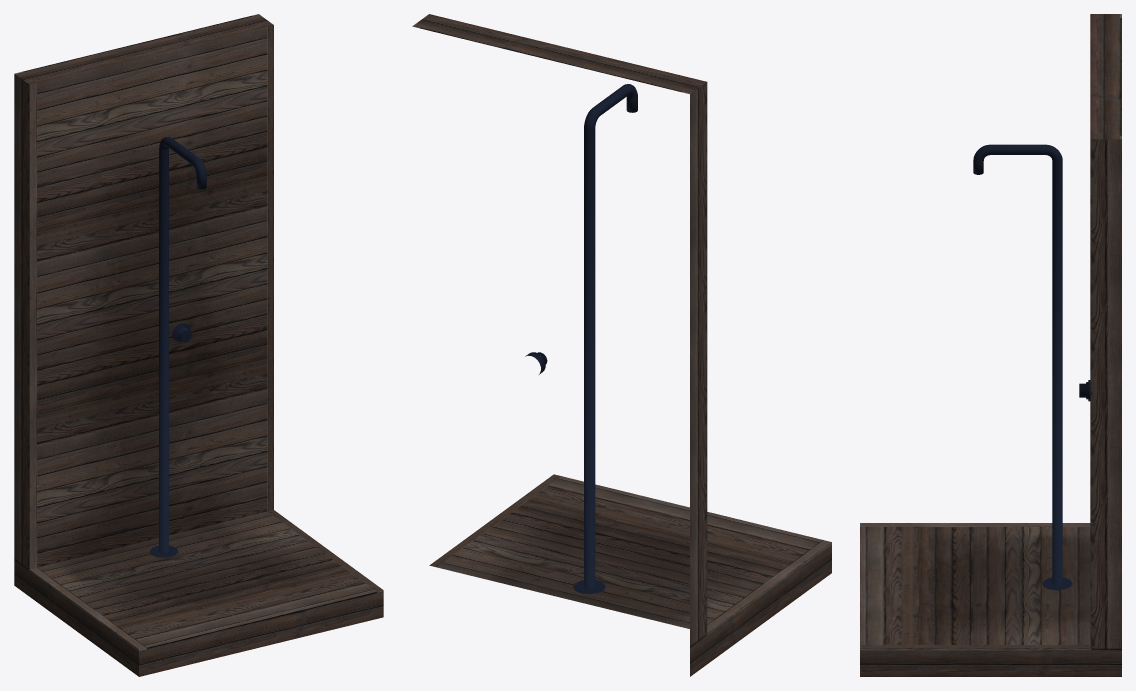
3 views of the same model, side by side, from view 1: azimuth 30°, elevation 25°; view 2: azimuth 150°, elevation 25°; view 3: azimuth 270°, elevation 25° (orthographic). The views are drawn at different scales.
Visible parts, largest first — view 1: Exterior shower_2; view 2: Exterior shower_2; view 3: Exterior shower_2.
Boxes of the visible parts, box(x1,y1,x2,y2) form: Exterior shower_2: box(14, 14, 383, 676); Exterior shower_2: box(412, 14, 831, 676); Exterior shower_2: box(860, 14, 1121, 676).
Size of the model in its own units: 122 by 244 by 108.
Materials: 1 (1 with a texture image).
